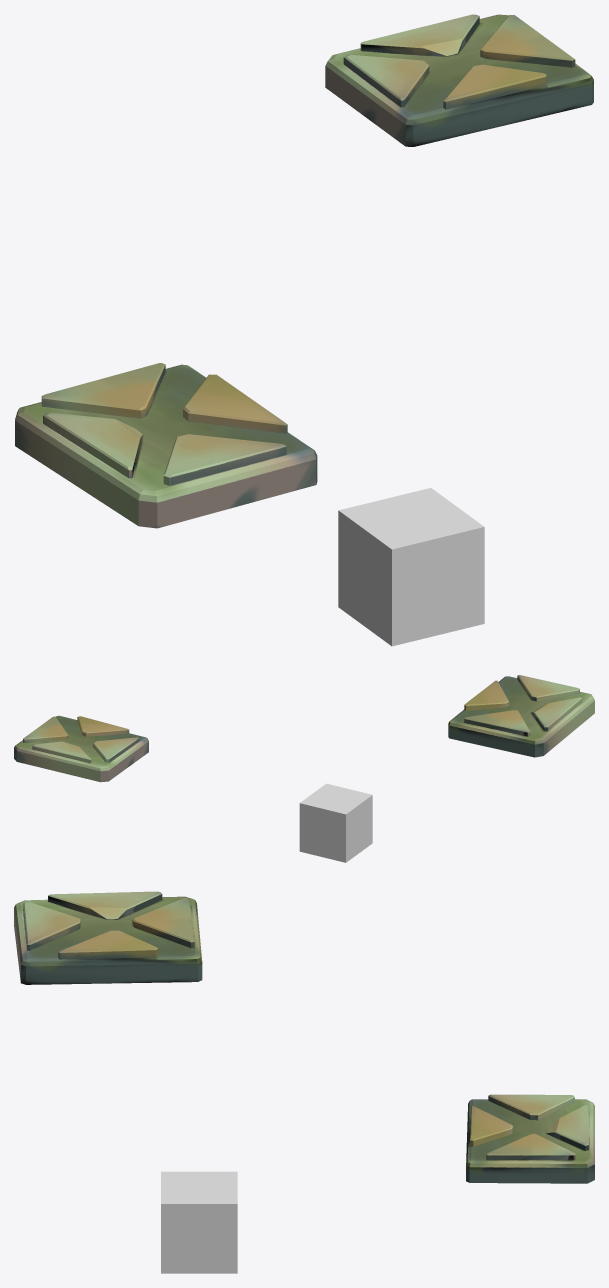
The model's file is battlescence-1-floor007.fbx.
The picture shows the model from 3 angles, top to bottom: view 1: azimuth 30°, elevation 25°; view 2: azimuth 150°, elevation 25°; view 3: azimuth 270°, elevation 25°; orthographic projection. The views are drawn at different scales.
Parts seen in each view (by area): view 1: Plane.025, Plane.003, battlescence-1-floor007; view 2: Plane.025, Plane.003, battlescence-1-floor007; view 3: Plane.025, Plane.003, battlescence-1-floor007.
Part boxes in pixels (box(x1,y1,x2,y2)): Plane.025: box(15, 363, 317, 528); Plane.003: box(325, 14, 593, 146); battlescence-1-floor007: box(338, 488, 484, 646); Plane.025: box(448, 675, 594, 757); Plane.003: box(14, 715, 148, 782); battlescence-1-floor007: box(299, 783, 372, 862); Plane.025: box(14, 891, 202, 984); Plane.003: box(466, 1094, 594, 1183); battlescence-1-floor007: box(161, 1171, 237, 1273).
Size of the model in its own units: 1013 by 401 by 912.
